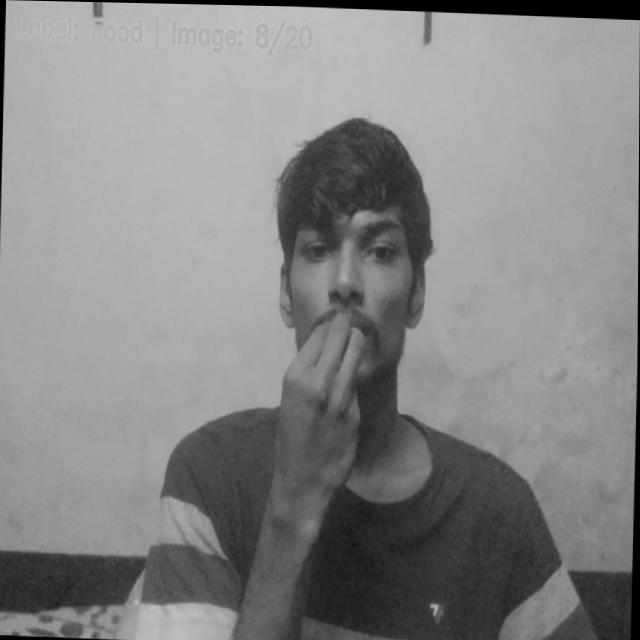Food: (276, 311, 370, 490)
